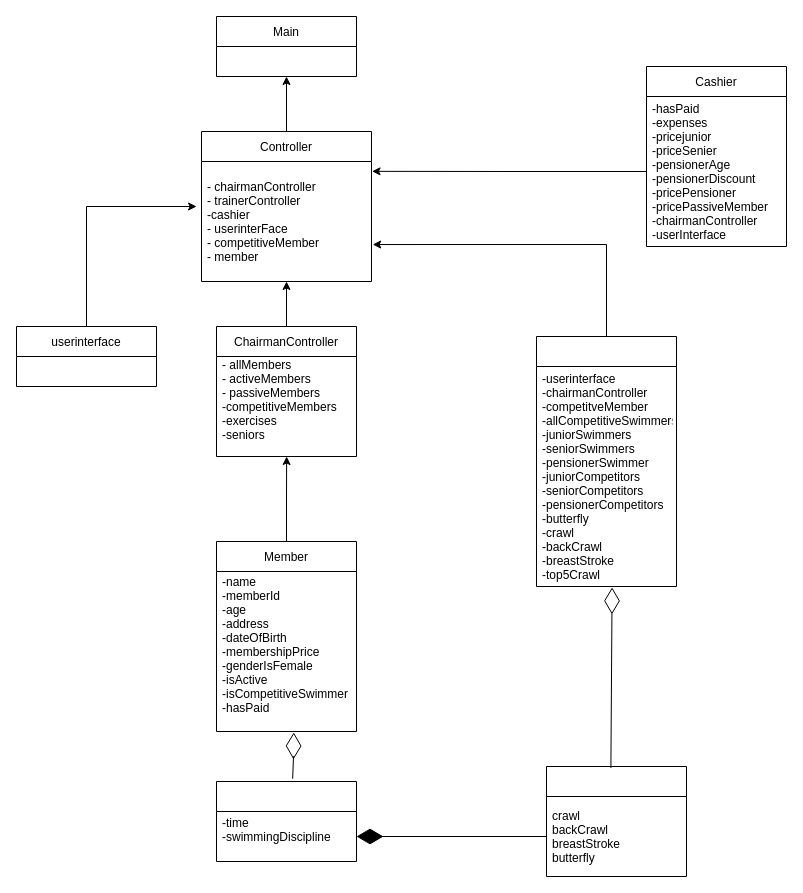
The diagram is 803 pixels wide and 893 high, and some of its shapes have lost their labels. Here are the shapes that lost their labels. From the top down, the box of each, then its label:
(536, 336, 676, 586): TrainerController
(216, 780, 356, 862): CompetitiveMember
(546, 766, 686, 876): Swimming disciplines
